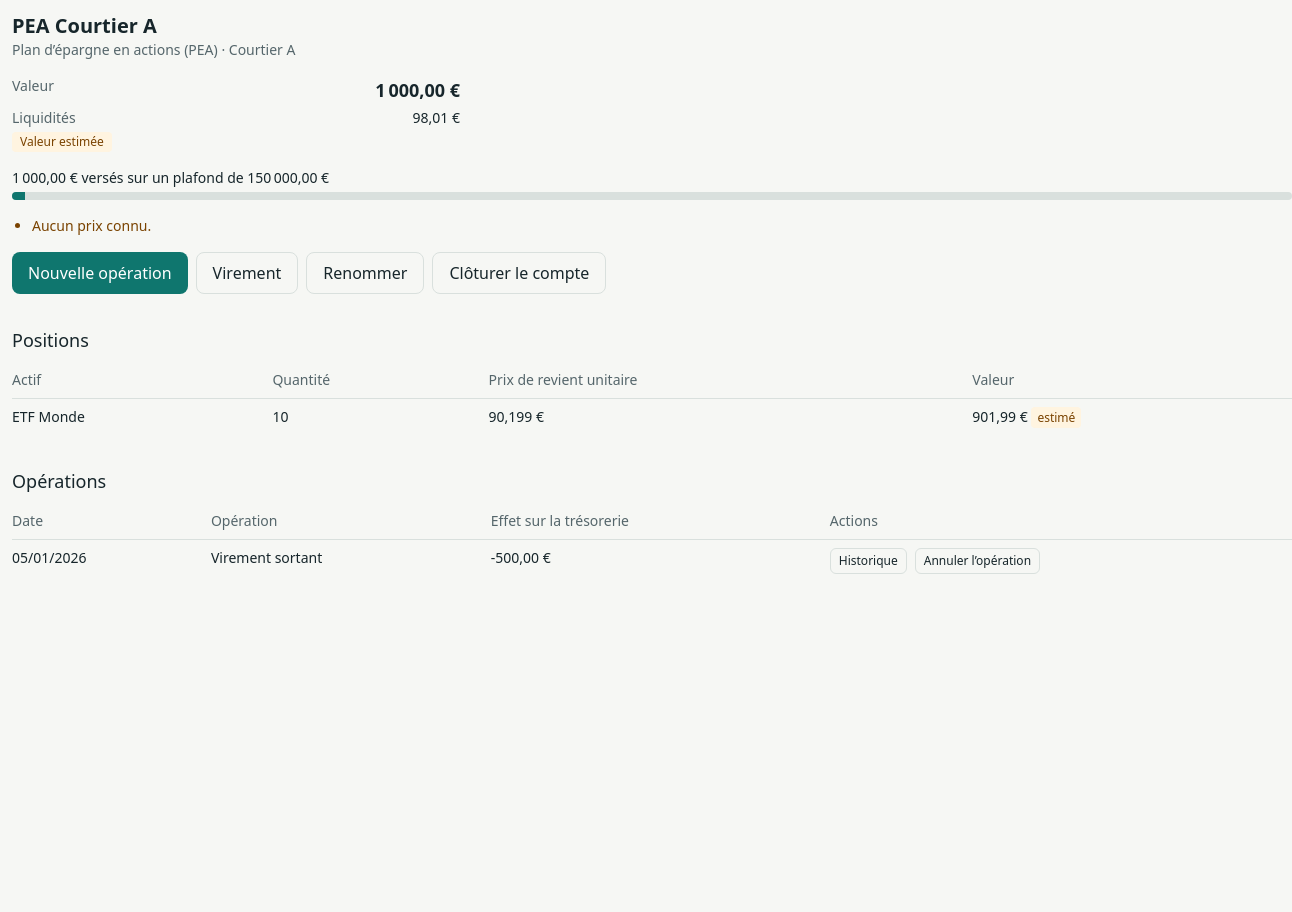
opérations › désigne un virement et l’annule avec ses deux jambes
This screenshot has width=1292, height=912.
Click the button "Annuler l’opération" at [977, 561], box [915,548,1040,574]
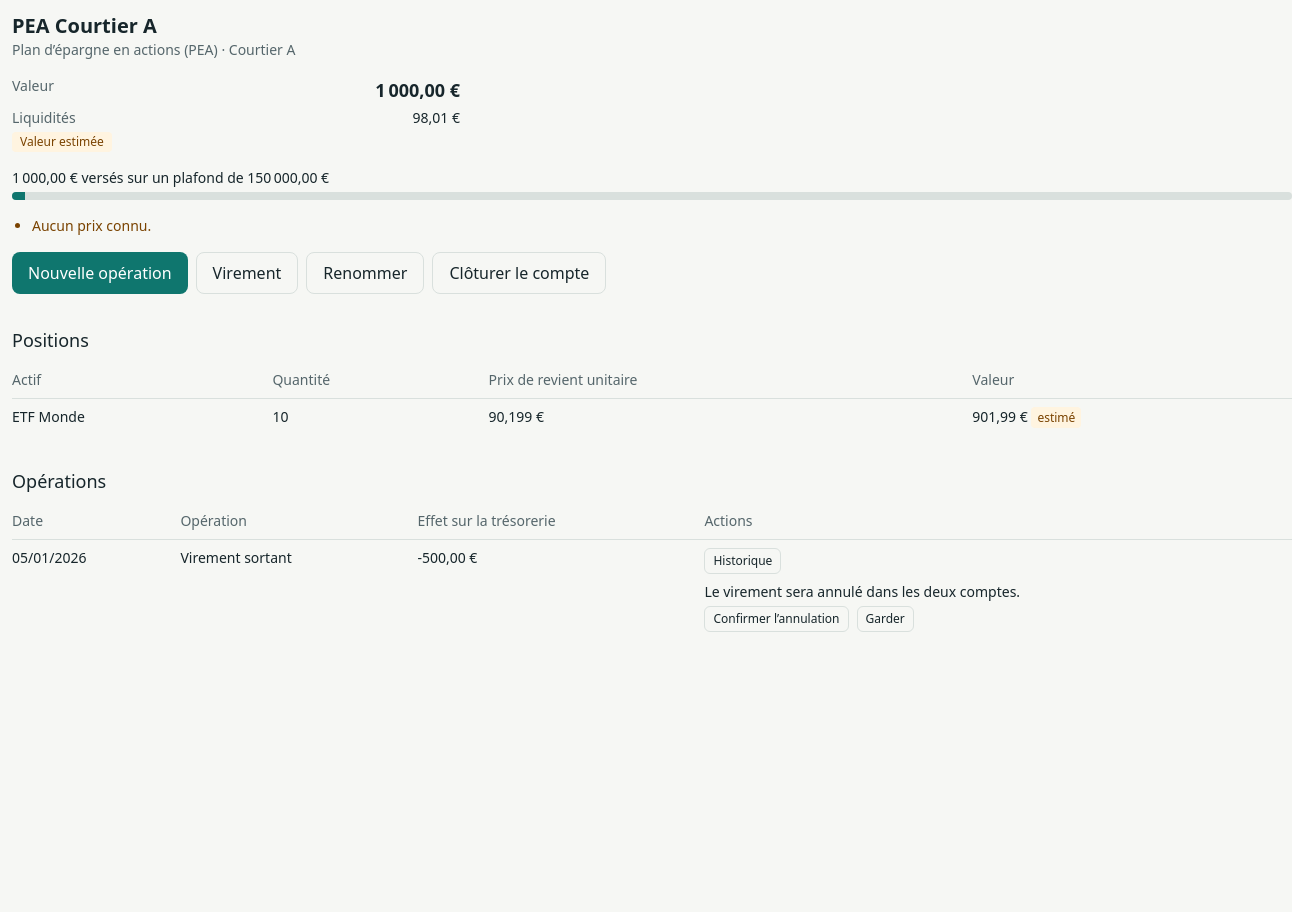
Expected: the text "Le virement sera annulé dans les deux comptes." is shown, [704,582,1020,601]
